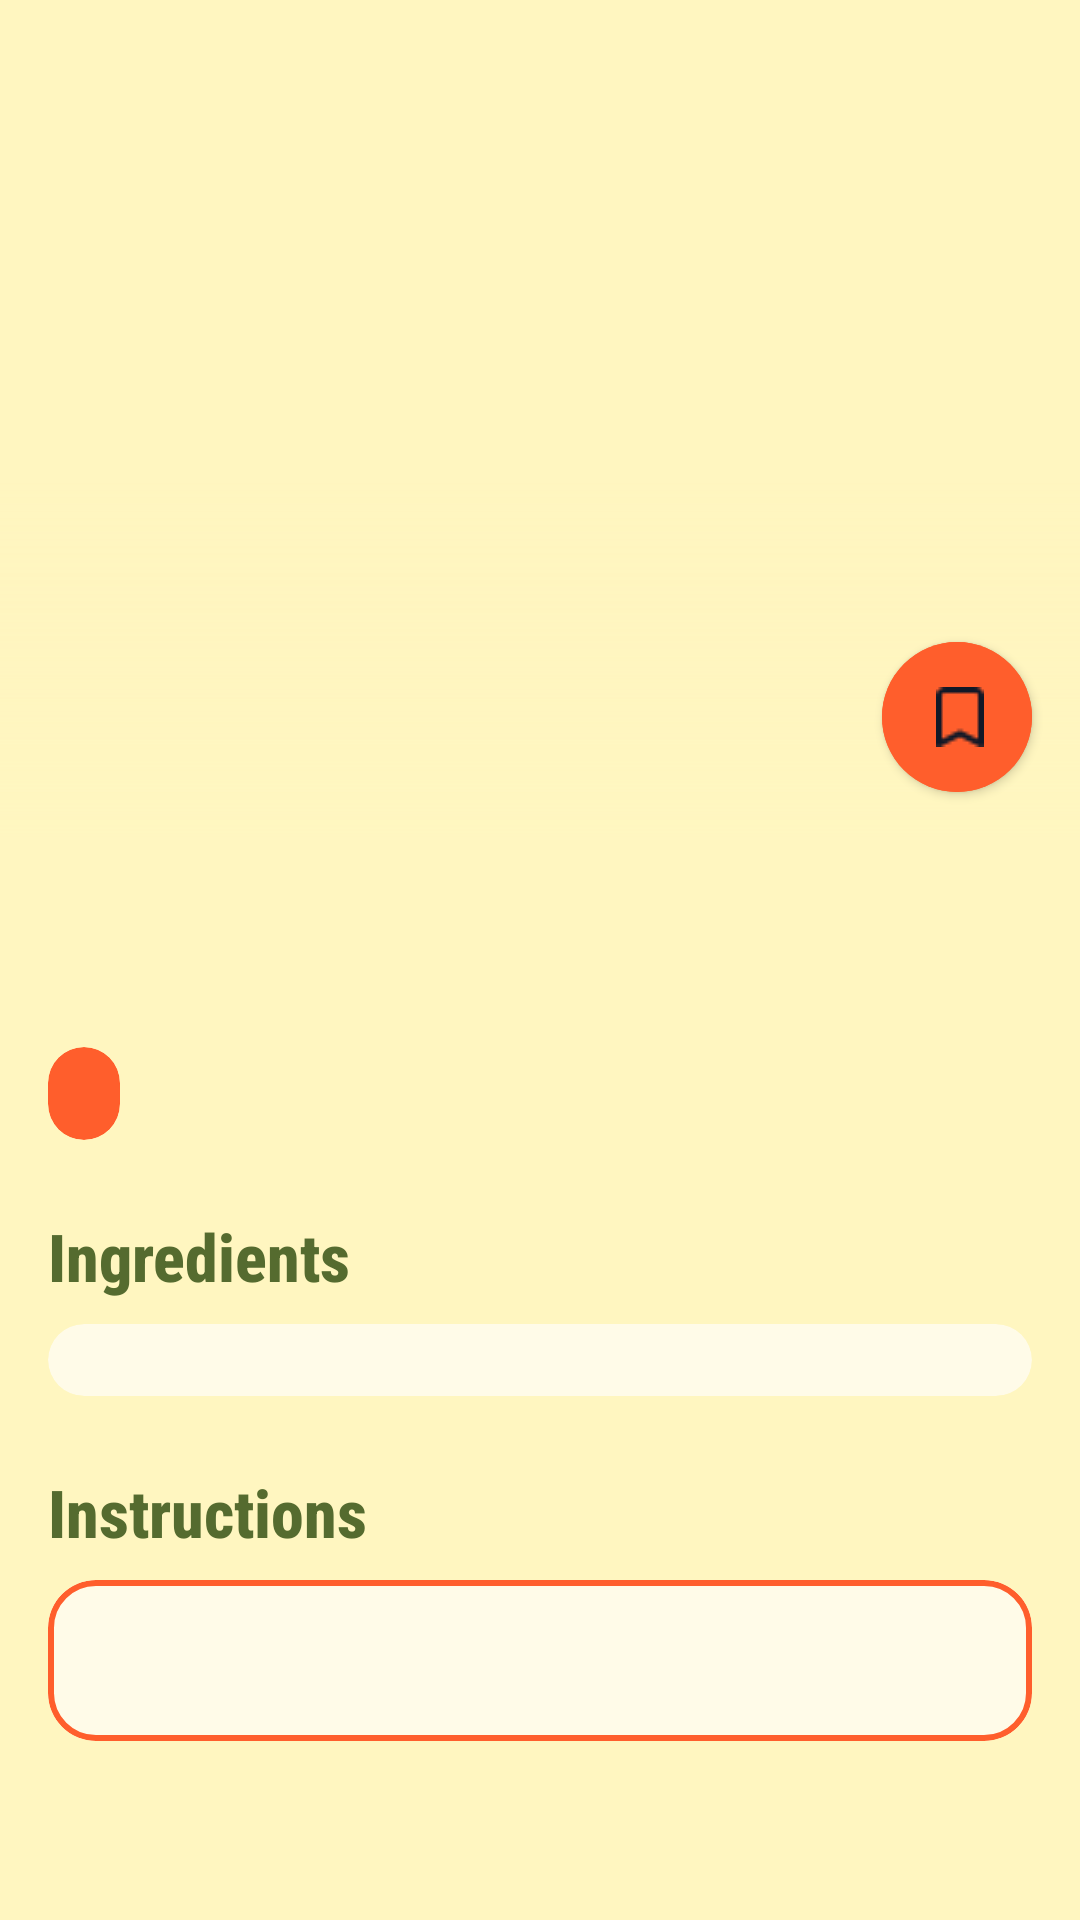

Icon bounding boxes for this 1080 × 1920 phone screenshot, format (x1, y1, x2, y2):
save detail: (882, 642, 1032, 792)
